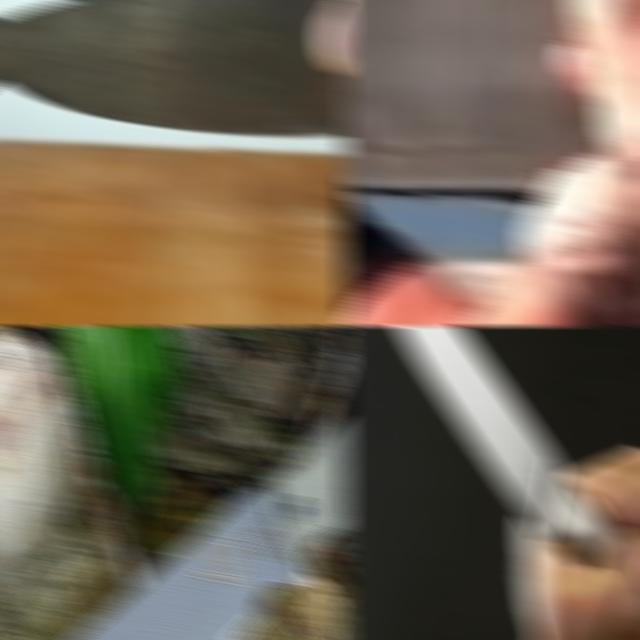Knife: (395, 326, 623, 565), (0, 0, 350, 134)
Knife_Handle: (0, 0, 350, 161)
